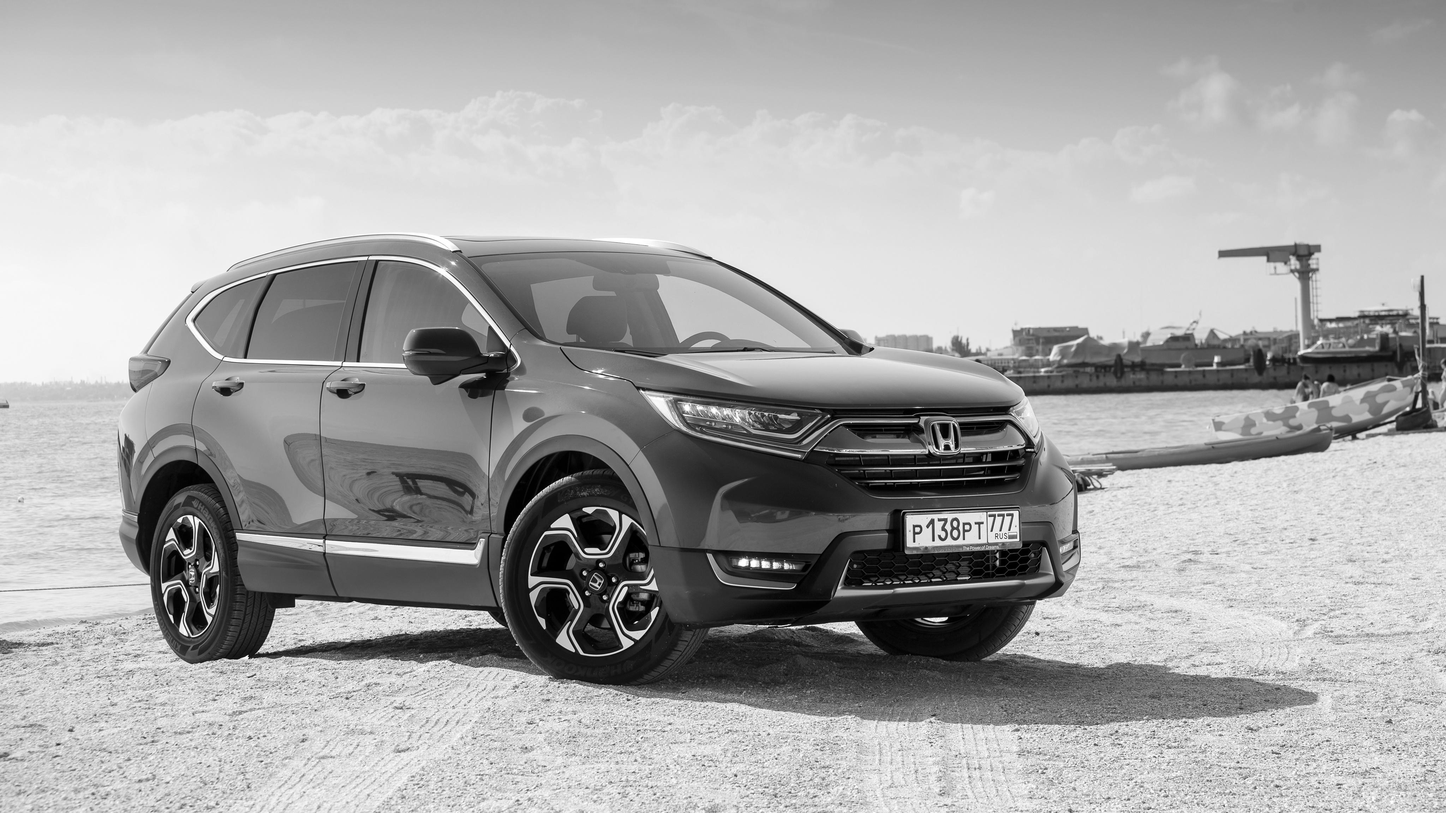Car hood: (551, 335, 1025, 427)
Driver-s door - -F-R-: (317, 214, 502, 616)
Fender - -F-R-: (485, 333, 684, 614)
Fender - -R-R-: (135, 315, 231, 504)
Front bumper: (627, 427, 1080, 632)
Headlight - -R-: (633, 380, 840, 462)
Passenger-s door - -R-R-: (188, 222, 371, 605)
Rear bumper: (116, 366, 149, 587)
Rear light - -R-: (126, 354, 169, 394)
Side mirror - -R-: (404, 324, 486, 392)
